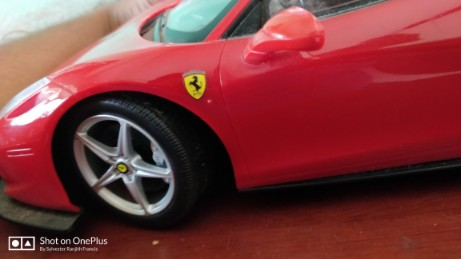unaligned_wheel: (39, 81, 248, 227)
